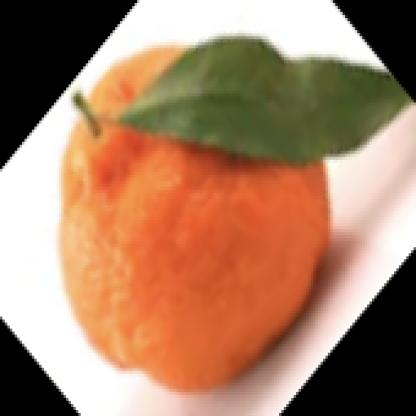fresh: (55, 39, 332, 398)
